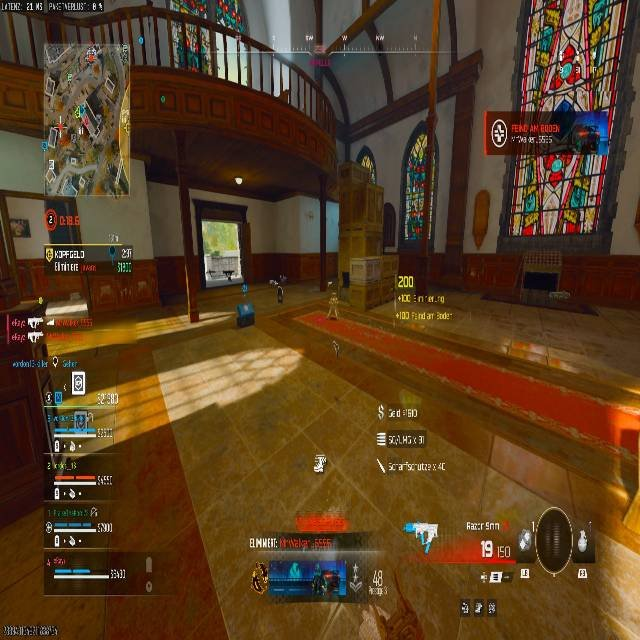player: (271, 274, 287, 304)
